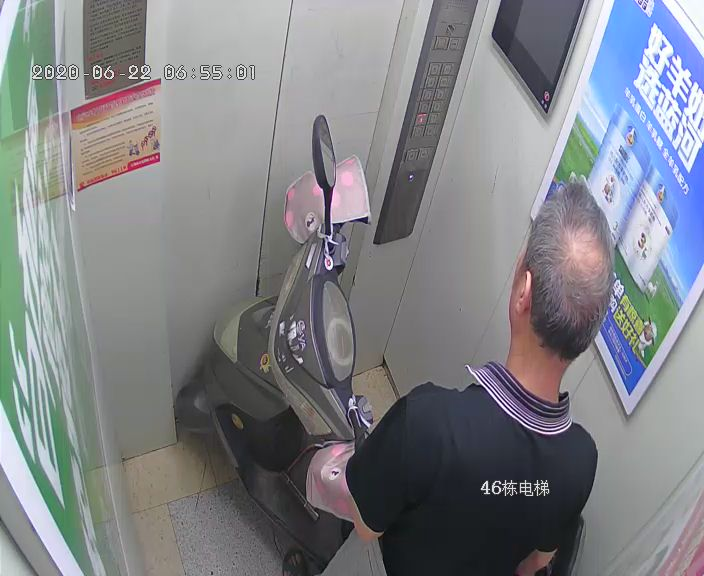Electric-bicycle: (175, 113, 363, 557)
